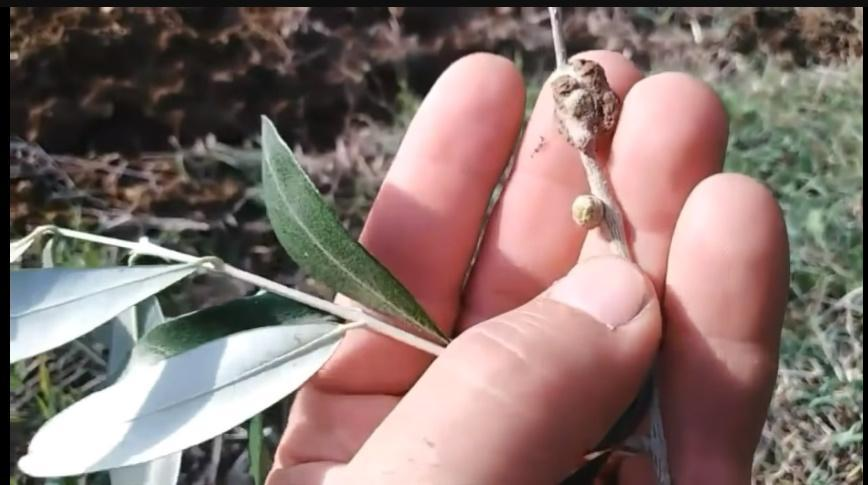Tuberculosis: (533, 48, 635, 152)
